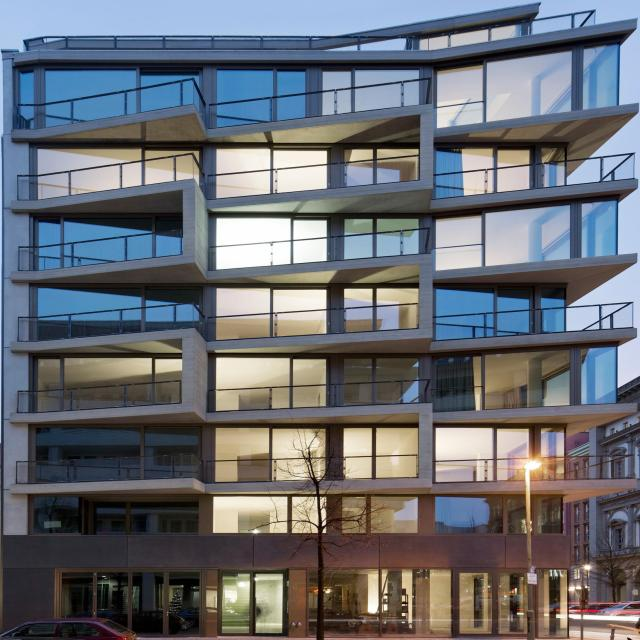Railing: (27, 10, 597, 51), (208, 77, 430, 127), (206, 227, 426, 272), (431, 152, 636, 200), (208, 153, 421, 199), (18, 78, 206, 129), (16, 152, 206, 200), (432, 301, 636, 340), (211, 303, 420, 341), (15, 302, 205, 342), (206, 379, 429, 413), (17, 228, 183, 271), (432, 455, 637, 484), (208, 456, 420, 482), (16, 380, 182, 413)
door: (222, 570, 285, 634)
wall: (2, 2, 639, 636)
windows: (311, 568, 568, 634), (439, 43, 622, 128), (437, 198, 622, 270), (436, 345, 624, 413), (35, 425, 205, 484), (59, 571, 208, 637), (39, 145, 206, 200), (215, 354, 420, 388), (216, 426, 418, 458), (218, 285, 420, 316), (212, 143, 419, 173), (212, 215, 424, 244), (36, 497, 200, 532), (45, 68, 206, 102), (35, 211, 185, 246), (38, 355, 184, 390), (441, 494, 567, 534), (37, 285, 198, 315), (437, 424, 569, 458), (438, 282, 571, 315), (217, 493, 329, 532), (433, 143, 567, 171), (215, 70, 310, 103), (349, 497, 422, 530), (324, 68, 423, 89), (21, 67, 36, 127)
